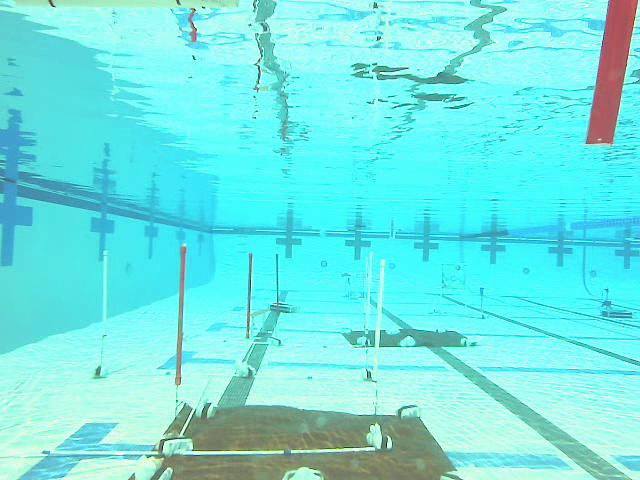black_poster: (178, 244, 186, 384), (247, 252, 253, 338), (275, 253, 280, 304)
white_poster: (368, 260, 386, 377), (101, 252, 110, 365)
